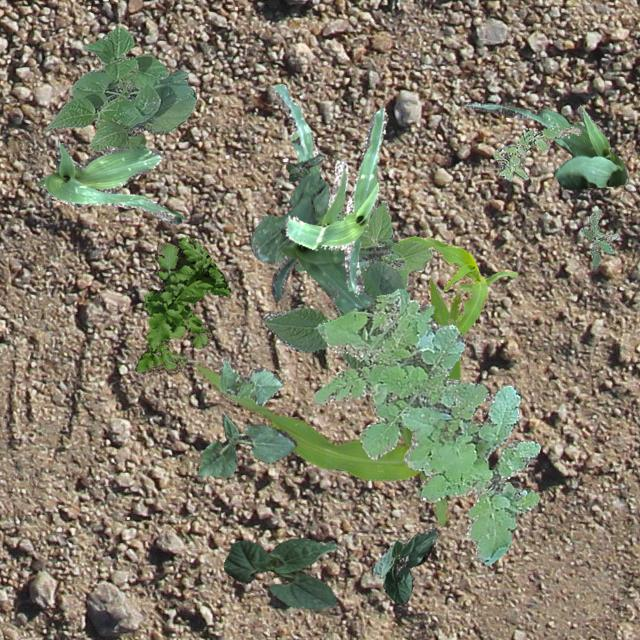crop: (192, 276, 460, 526), (284, 106, 386, 292), (44, 26, 196, 150), (274, 82, 346, 316), (270, 178, 390, 312), (261, 260, 404, 368), (464, 101, 626, 188), (34, 140, 186, 224), (398, 236, 516, 334), (222, 538, 336, 608), (248, 172, 328, 262), (196, 412, 296, 477), (369, 528, 436, 604), (218, 356, 282, 404)
weed: (312, 287, 540, 564), (133, 236, 230, 374), (336, 200, 432, 288), (492, 124, 580, 180), (578, 208, 618, 268), (284, 154, 322, 182)
